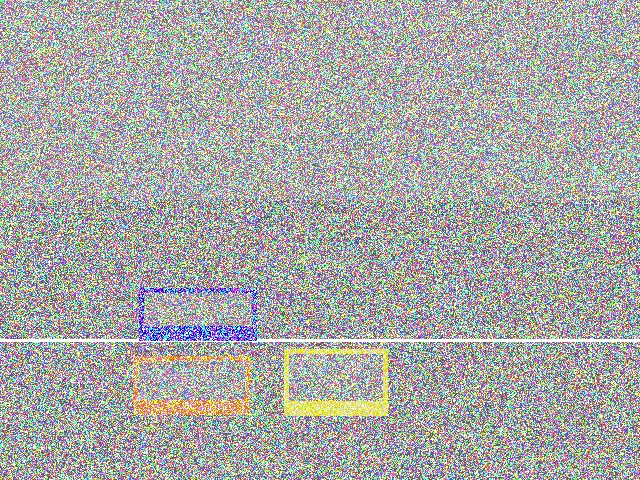bus: (198, 250, 293, 391)
